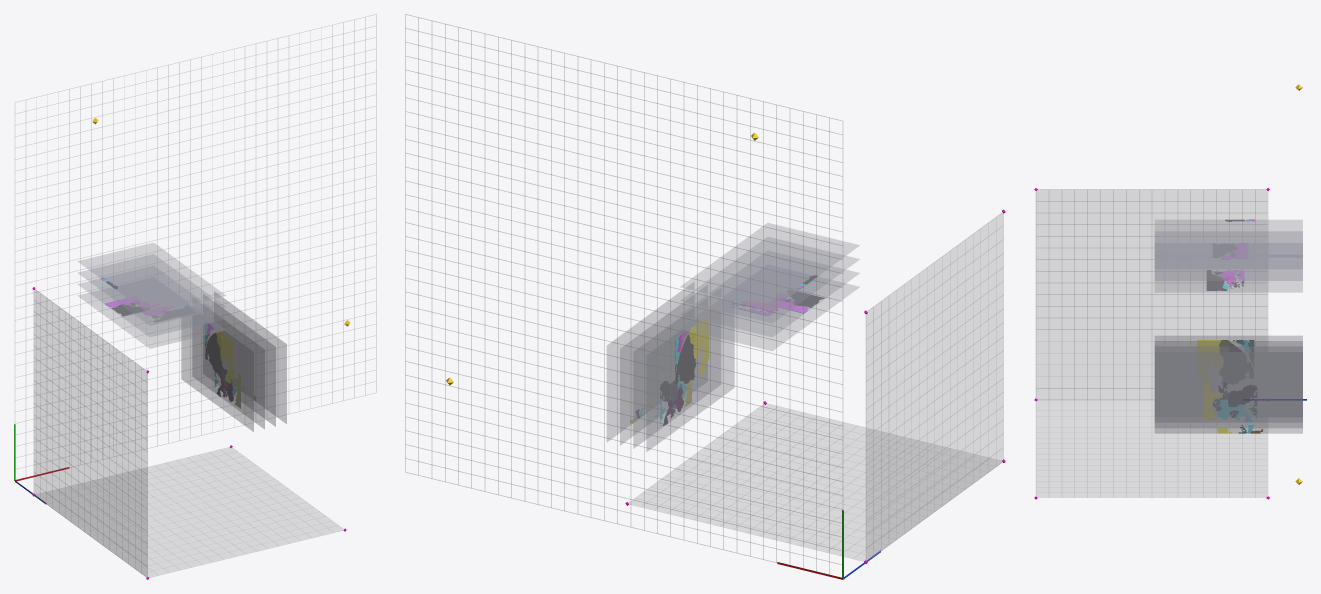
Rendered from shards.obj.
3 renders of one model, left to right at view 1: azimuth 30°, elevation 25°; view 2: azimuth 150°, elevation 25°; view 3: azimuth 270°, elevation 25°, orthographic. The views are drawn at different scales.
Parts seen in each view (by area): view 1: wall_A, wall_B, grid_floor, panel_B3, panel_B2, panel_A0, panel_A1, panel_A3, panel_B1, panel_B0, panel_A2, grid_wallA (+4 smaller); view 2: wall_A, wall_B, grid_floor, panel_B3, panel_B2, panel_A0, panel_A1, panel_A3, panel_B1, panel_B0, panel_A2, grid_wallA (+4 smaller); view 3: wall_A, wall_B, panel_A2, panel_A3, panel_B2, panel_B3, grid_wallA, panel_B1, panel_B0, K, panel_A1, Y (+4 smaller).
Part boxes in pixels (x1,y1,x2,y2): wall_A: [34, 290, 147, 576]; wall_B: [36, 447, 343, 577]; grid_floor: [15, 14, 376, 469]; panel_B3: [77, 243, 225, 313]; panel_B2: [78, 254, 225, 325]; panel_A0: [181, 322, 253, 431]; panel_A1: [192, 311, 264, 429]; panel_A3: [214, 291, 286, 423]; panel_B1: [78, 279, 225, 336]; panel_B0: [78, 290, 225, 348]; panel_A2: [203, 299, 275, 426]; grid_wallA: [34, 289, 147, 576]; wall_A: [866, 213, 1003, 560]; wall_B: [629, 404, 1001, 560]; grid_floor: [405, 14, 842, 574]; panel_B3: [680, 223, 859, 309]; panel_B2: [680, 237, 859, 323]; panel_A0: [646, 319, 734, 451]; panel_A1: [633, 305, 720, 448]; panel_A3: [607, 282, 694, 441]; panel_B1: [680, 266, 859, 336]; panel_B0: [680, 280, 859, 350]; panel_A2: [620, 292, 707, 445]; grid_wallA: [866, 212, 1003, 560]; wall_A: [1036, 190, 1267, 399]; wall_B: [1036, 400, 1267, 497]; panel_A2: [1155, 346, 1302, 427]; panel_A3: [1155, 352, 1302, 433]; panel_B2: [1155, 231, 1302, 268]; panel_B3: [1155, 220, 1302, 257]; grid_wallA: [1036, 189, 1267, 399]; panel_B1: [1155, 257, 1302, 280]; panel_B0: [1155, 269, 1302, 292]; K: [1206, 219, 1262, 433]; panel_A1: [1155, 341, 1302, 351]; Y: [1197, 340, 1262, 433].
Size of the model in its own units: 3318 by 3318 by 2115.
